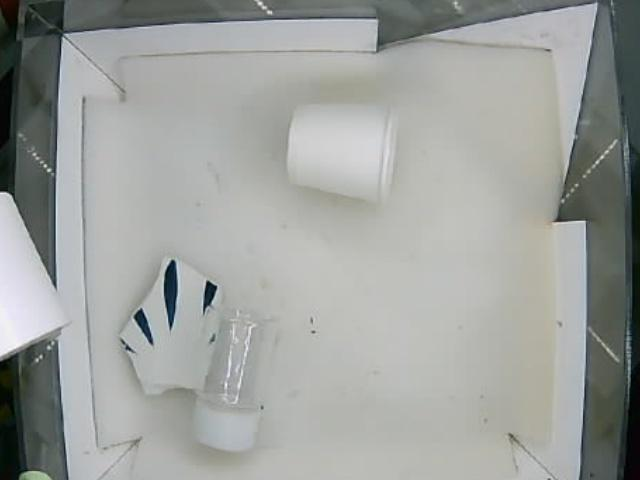Bottle: (189, 305, 273, 452)
China: (113, 251, 228, 399)
Cup: (285, 103, 402, 202)
